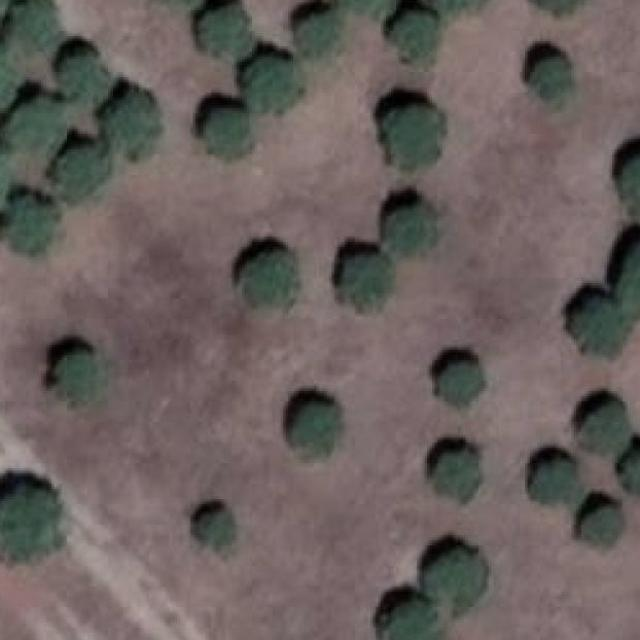Tree: (0, 492, 57, 553), (242, 250, 298, 312), (5, 98, 65, 154), (427, 551, 482, 610), (576, 304, 631, 358), (7, 193, 57, 252), (108, 95, 157, 154), (201, 5, 255, 55), (386, 110, 440, 160), (60, 51, 111, 103), (247, 59, 301, 108), (55, 352, 109, 401), (62, 147, 108, 204), (288, 403, 340, 453), (342, 255, 391, 307), (10, 0, 59, 49), (386, 203, 435, 252), (583, 406, 633, 451), (389, 13, 435, 58), (206, 111, 250, 158), (386, 604, 442, 640), (532, 461, 581, 502), (436, 451, 476, 495), (440, 362, 484, 401), (298, 14, 339, 54), (530, 58, 571, 98), (582, 508, 626, 544), (617, 154, 640, 216), (622, 245, 640, 312), (198, 512, 230, 546), (339, 0, 391, 12), (0, 147, 10, 208), (0, 41, 10, 100), (435, 0, 489, 10), (531, 0, 581, 10)
